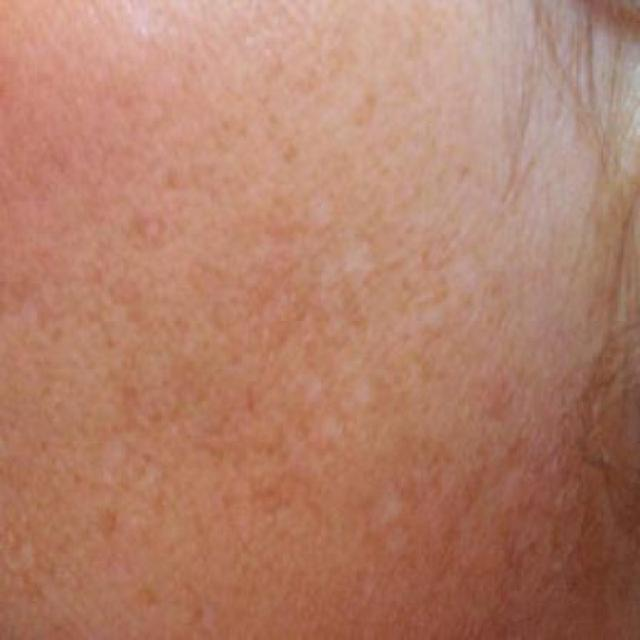melasma: (0, 58, 608, 597)
